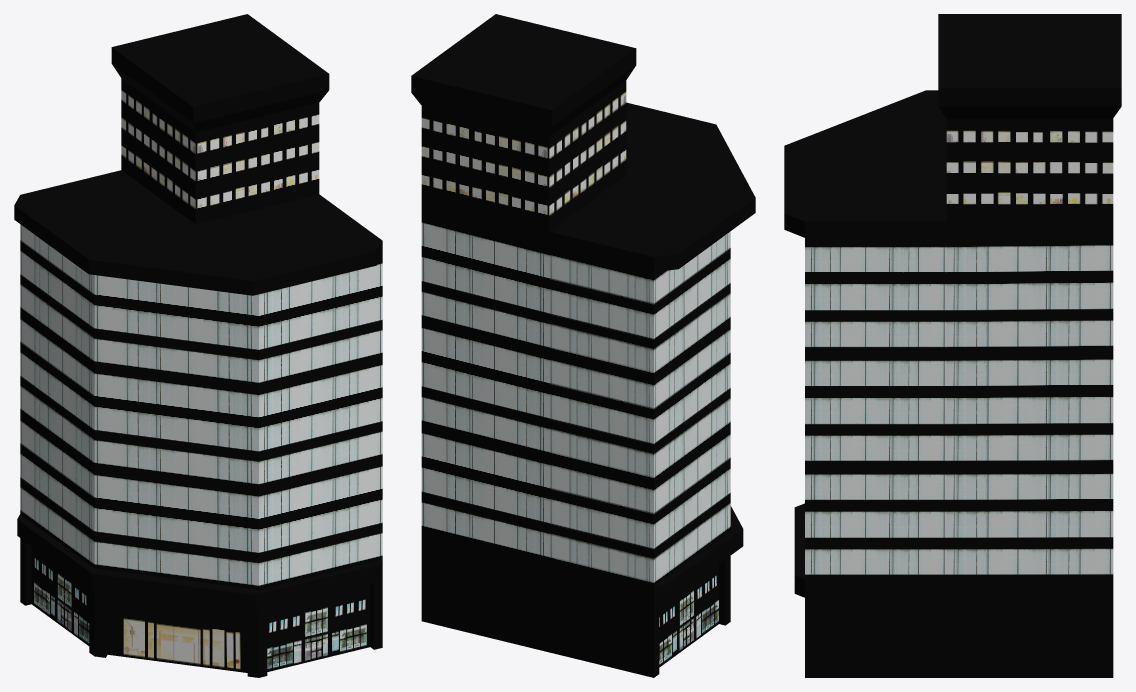
Rendered from building23.FBX.
3 views of the same model, side by side, from view 1: azimuth 30°, elevation 25°; view 2: azimuth 150°, elevation 25°; view 3: azimuth 270°, elevation 25° (orthographic). The views are drawn at different scales.
Parts seen in each view (by area): view 1: Box001; view 2: Box001; view 3: Box001.
Part boxes in pixels (<box>): Box001: <box>14,14,382,677</box>; Box001: <box>411,14,755,677</box>; Box001: <box>784,14,1121,677</box>.
Bounding box in the file's own units: 205 × 420 × 217.
